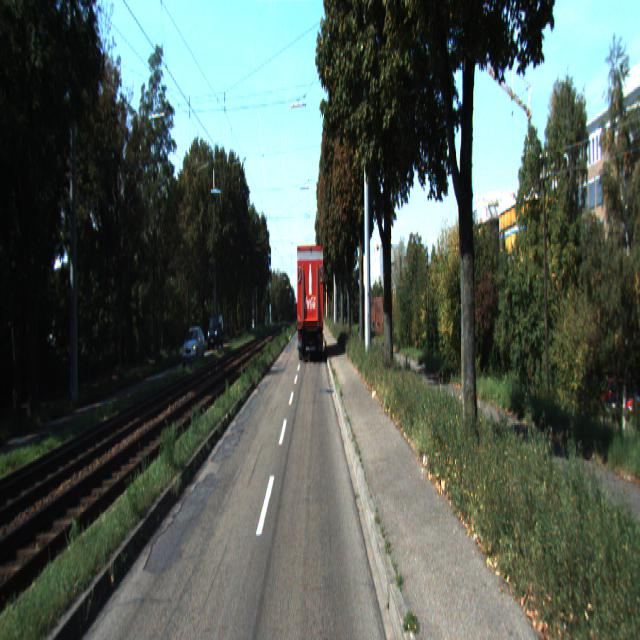Car: (295, 242, 325, 364), (182, 322, 206, 367), (207, 313, 224, 351)
